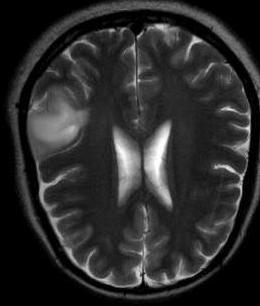Normal_Brain: (1, 1, 260, 306)
